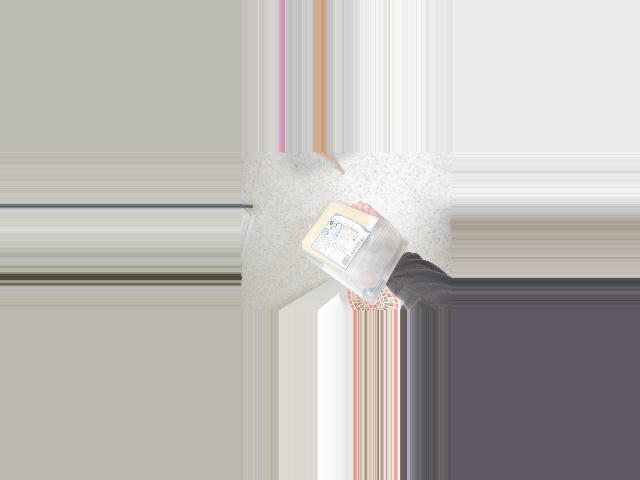cheese: (299, 210, 392, 262)
